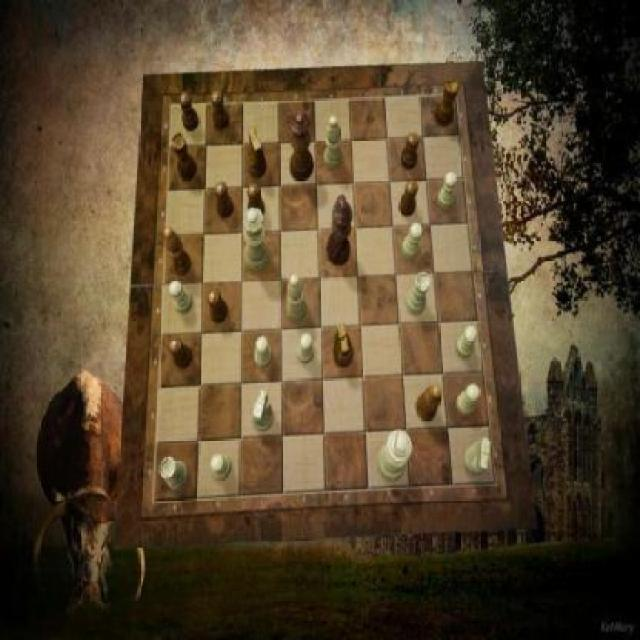bishop: (165, 226, 192, 277), (417, 383, 443, 422)
black-bishop: (326, 194, 353, 266)
black-king: (334, 323, 354, 369), (248, 130, 267, 178)
black-knight: (180, 92, 200, 132), (169, 338, 193, 371), (211, 91, 230, 131), (400, 179, 420, 216), (208, 289, 228, 323), (216, 182, 234, 219), (248, 183, 265, 221), (402, 132, 419, 170)
black-pawn: (290, 111, 314, 180)
black-queen: (434, 79, 460, 126), (172, 134, 197, 181)
black-rook: (324, 115, 344, 170), (286, 276, 307, 322)
white-bishop: (377, 431, 412, 483)
white-king: (464, 439, 492, 476), (252, 389, 275, 432)
white-knight: (169, 280, 193, 315), (403, 223, 423, 261), (437, 171, 457, 209), (455, 326, 478, 359), (457, 385, 480, 417), (210, 454, 232, 479), (254, 337, 271, 369), (297, 334, 315, 364)
white-pawn: (243, 208, 269, 272)
white-queen: (406, 272, 431, 316), (158, 457, 188, 491)
